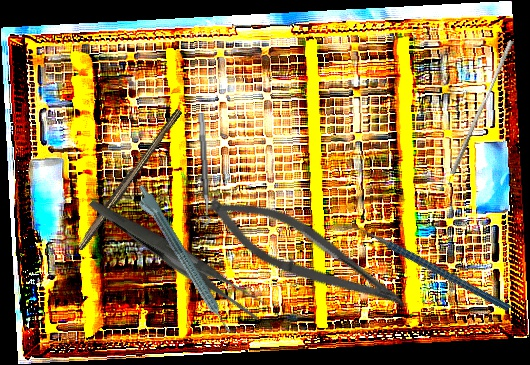Chopper: (339, 179, 512, 358)
Dressing Forceps: (88, 156, 271, 357)
Fixation Ring: (189, 112, 211, 228)
Handpiece: (129, 181, 235, 340)
Micro Scissor: (197, 182, 421, 323)
Pusher: (449, 37, 515, 178)
Scalpel Handle: (74, 105, 183, 253)
